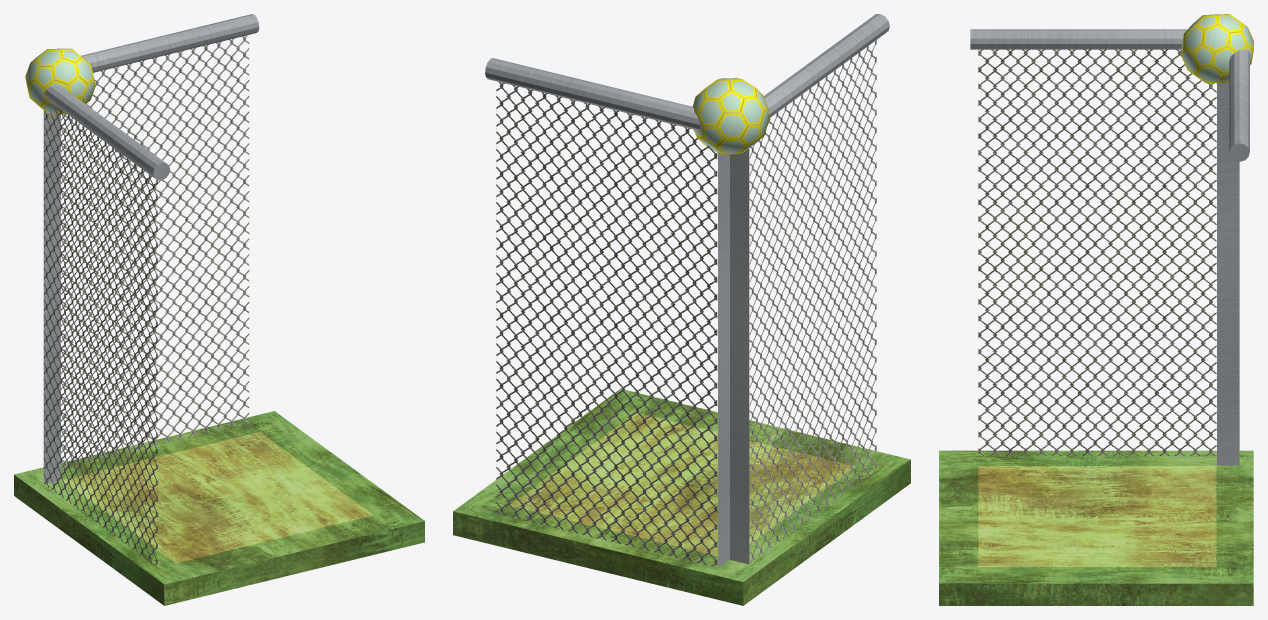
Rendered from elevator.fbx.
The picture shows the model from 3 angles, left to right: view 1: azimuth 30°, elevation 25°; view 2: azimuth 150°, elevation 25°; view 3: azimuth 270°, elevation 25°; orthographic projection. The views are drawn at different scales.
Visible parts, largest first — view 1: elev_base, elev_rod2, elev_ball, elev_rod; view 2: elev_base, elev_rod2, elev_ball, elev_rod; view 3: elev_base, elev_rod, elev_ball, elev_rod2.
Part boxes in pixels (x1,y1,x2,y2): elev_base: (14, 35, 424, 605); elev_rod2: (81, 14, 259, 72); elev_ball: (25, 48, 95, 114); elev_rod: (44, 85, 170, 180); elev_base: (453, 40, 910, 605); elev_rod2: (485, 58, 700, 130); elev_ball: (692, 78, 768, 154); elev_rod: (763, 14, 889, 118); elev_base: (939, 49, 1253, 605); elev_rod: (970, 29, 1187, 49); elev_ball: (1181, 14, 1253, 83); elev_rod2: (1229, 49, 1249, 161).
Bounding box in the file's own units: 100 × 166 × 100.
1 material, 1 textured.
